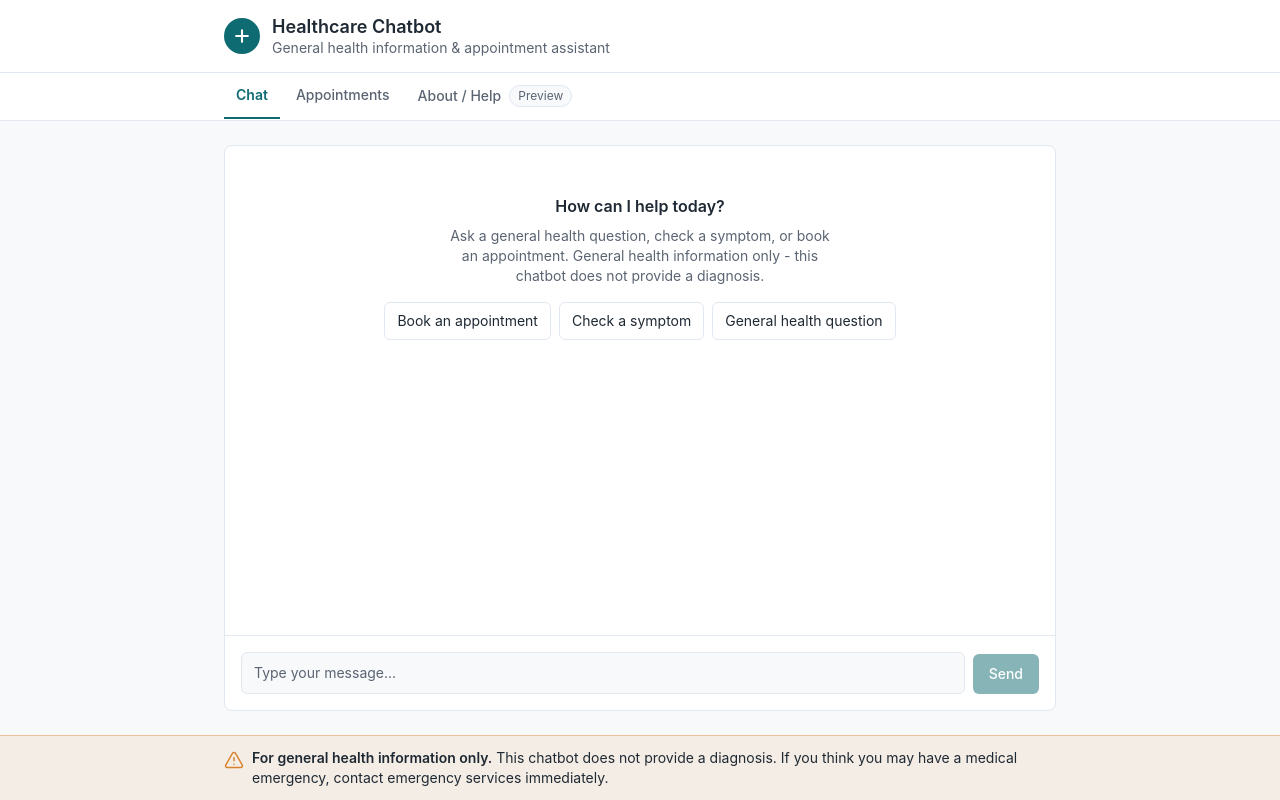
Test: App navigation (Appointments, About, and back to Chat) › existing About navigation still works
Click the button "About / Help Preview": (495, 97) [406, 73, 584, 121]
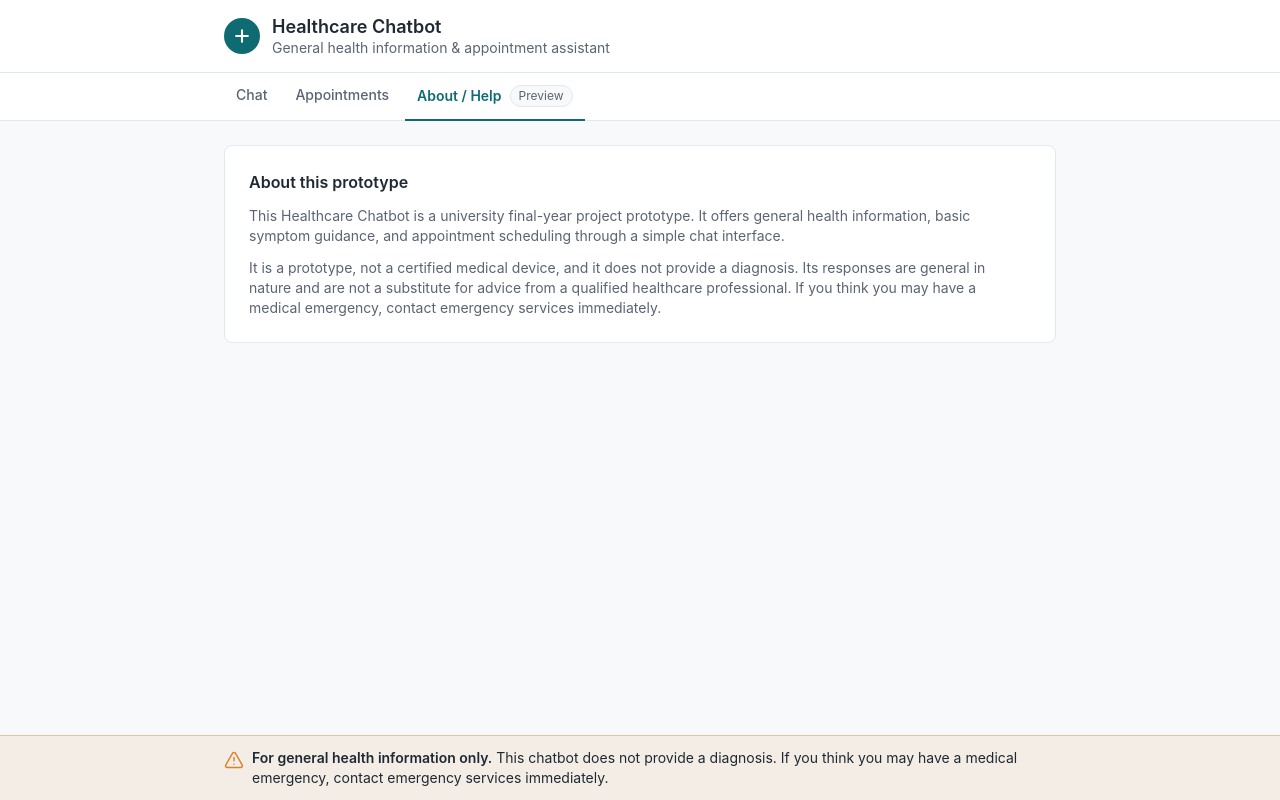
Check: the heading "About this prototype" is shown, box [249, 172, 408, 192]
